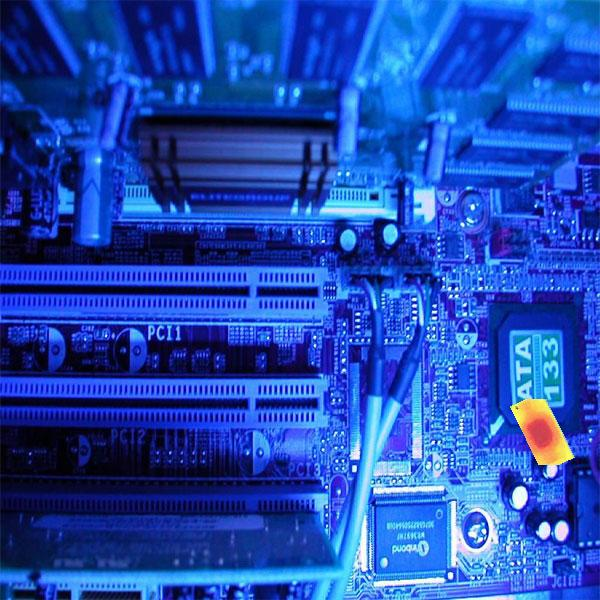componente_T: (508, 397, 578, 467)
